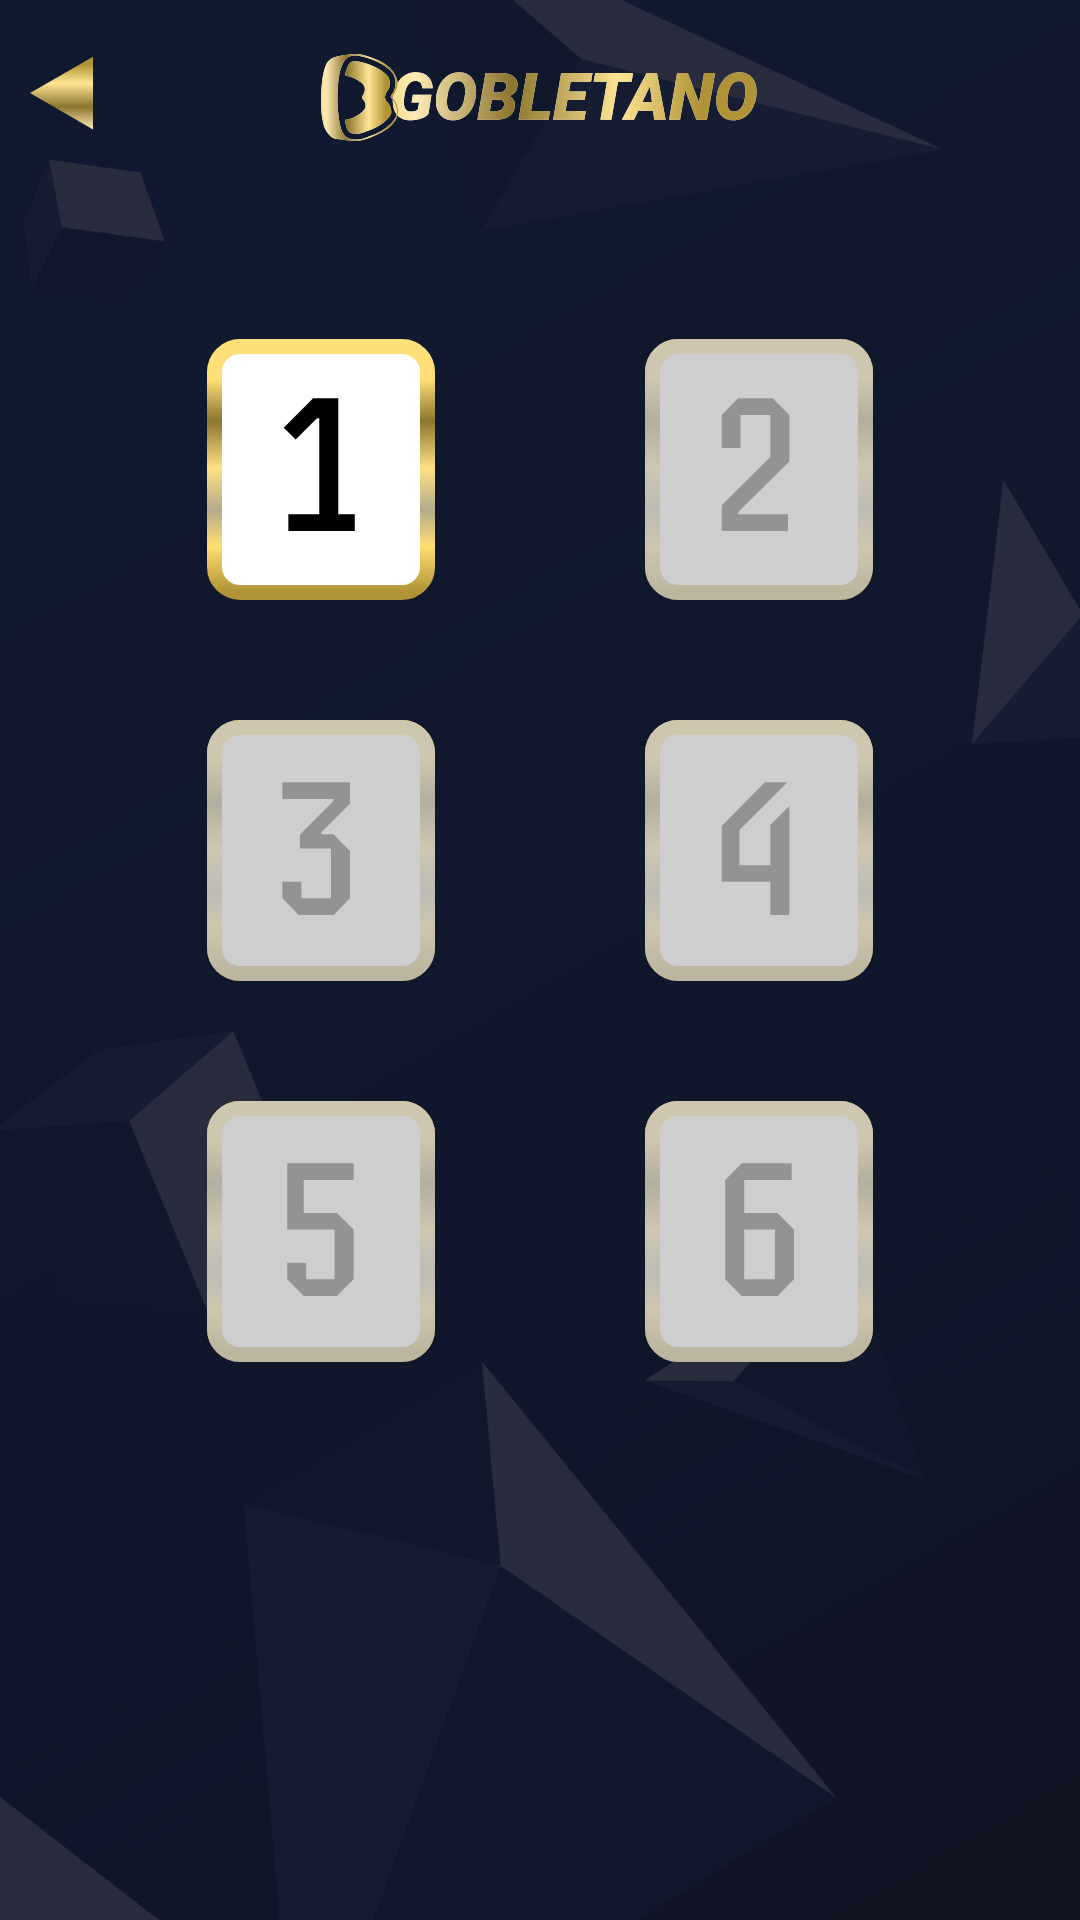

Icon bounding boxes for this 1080px×1920px phone screenshot, format (x1, y1, x2, y2):
back: (30, 57, 93, 130)
first level on: (207, 339, 435, 600)
five level off: (207, 1101, 435, 1362)
four level off: (645, 720, 873, 981)
second level off: (645, 339, 873, 600)
six level off: (645, 1101, 873, 1362)
three level off: (207, 720, 435, 981)
